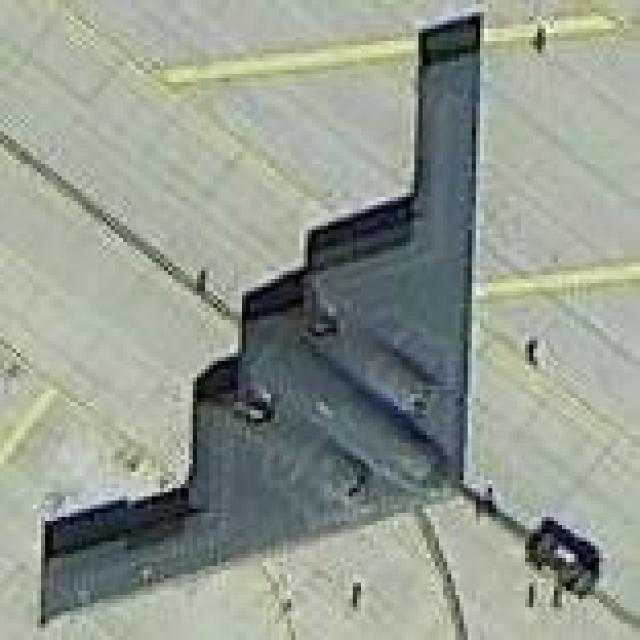B-2_TopDown: (16, 8, 486, 632)
